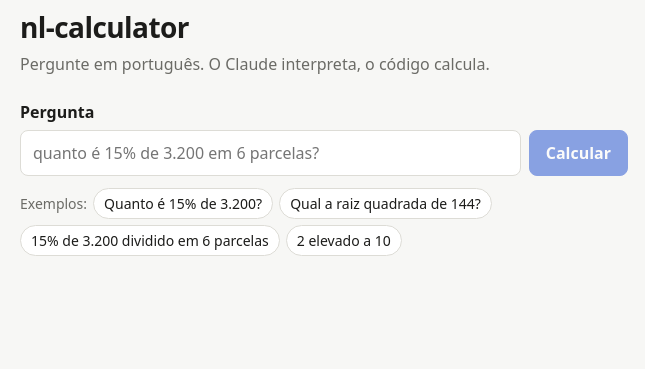
Test case: shows API errors as alert
In the field labelled "Pergunta": coordinates (270, 153) [20,130,521,176], type "1+1"
Then press Enter
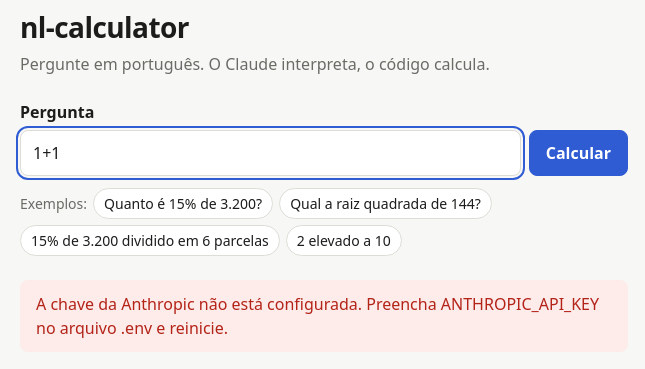
Check: the message shows "A chave da Anthropic não está configurada. Preencha ANTHROPIC_API_KEY no arquivo .env e reinicie.", box [36,293,599,339]
